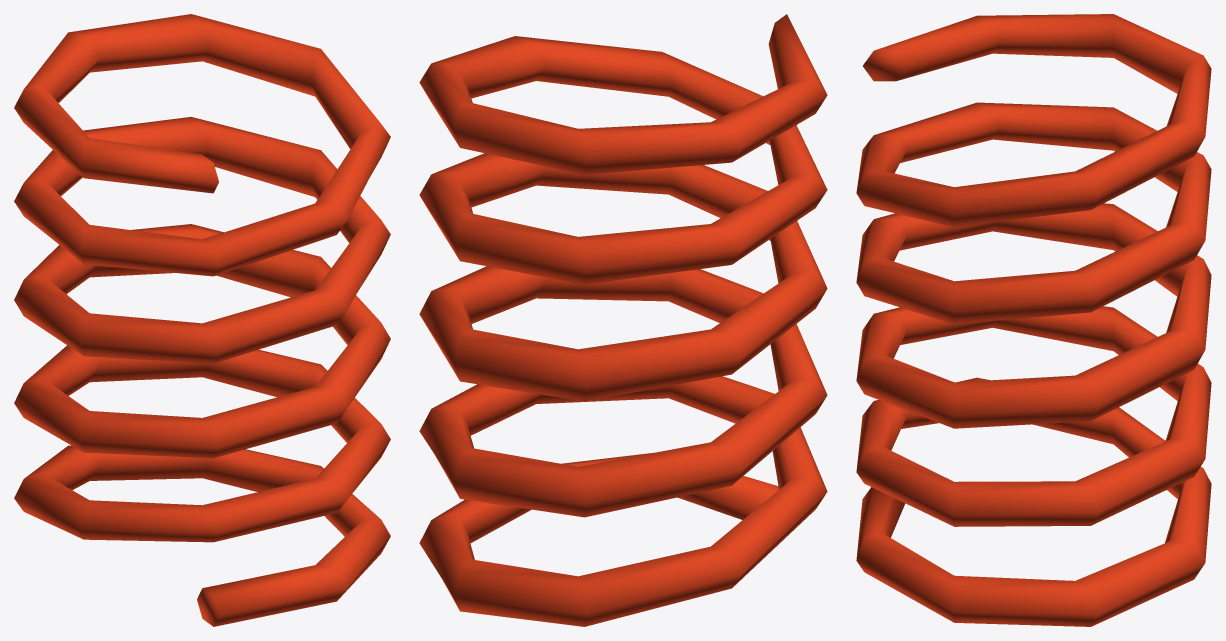
The model's file is Spring.glb.
The picture shows the model from 3 angles, left to right: view 1: azimuth 30°, elevation 25°; view 2: azimuth 150°, elevation 25°; view 3: azimuth 270°, elevation 25°; orthographic projection. The views are drawn at different scales.
Parts seen in each view (by area): view 1: spring; view 2: spring; view 3: spring.
Boxes of the visible parts, x1,y1,x2,y2 form: spring: [14, 14, 390, 626]; spring: [419, 14, 827, 626]; spring: [856, 14, 1211, 626].
Size of the model in its own units: 4.44 by 6.56 by 4.44.
Materials: 1 (1 with a texture image).
